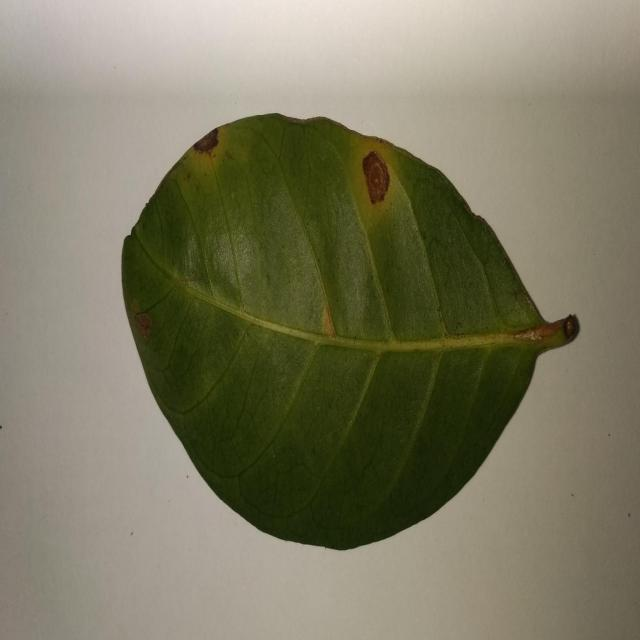Enfermedad-Mancha-de-hierro: (120, 116, 581, 554)
